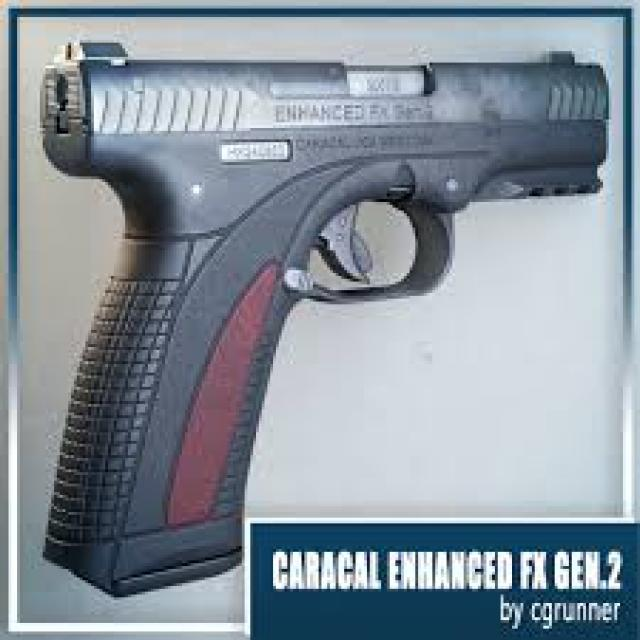Gun: (38, 35, 640, 599)
